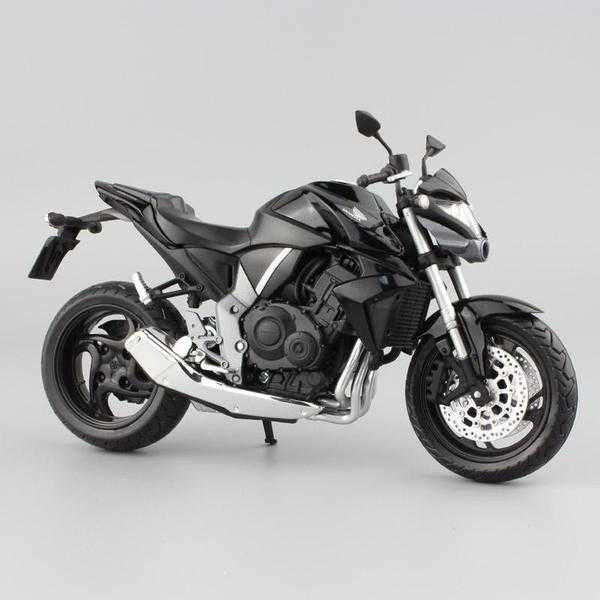motorbike: (27, 109, 579, 484)
